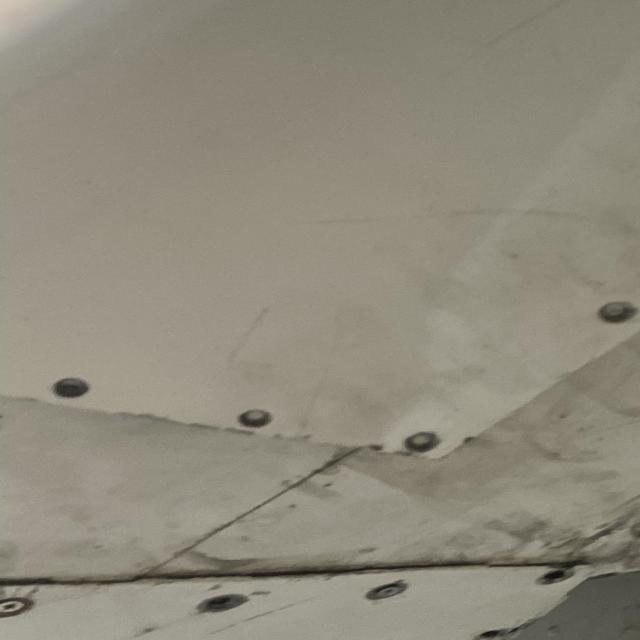Missing-head: (196, 592, 248, 614), (596, 301, 637, 324), (403, 431, 442, 454), (236, 407, 272, 429), (535, 569, 571, 586), (469, 628, 510, 640)
